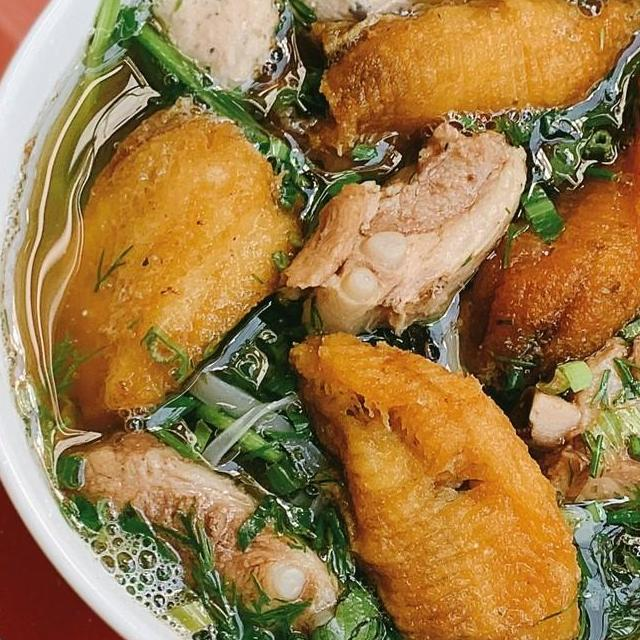ca: (277, 315, 603, 640), (42, 100, 324, 437), (466, 44, 640, 406), (308, 0, 640, 161)
thit heo: (275, 110, 542, 358), (53, 420, 353, 640), (513, 319, 640, 517)
